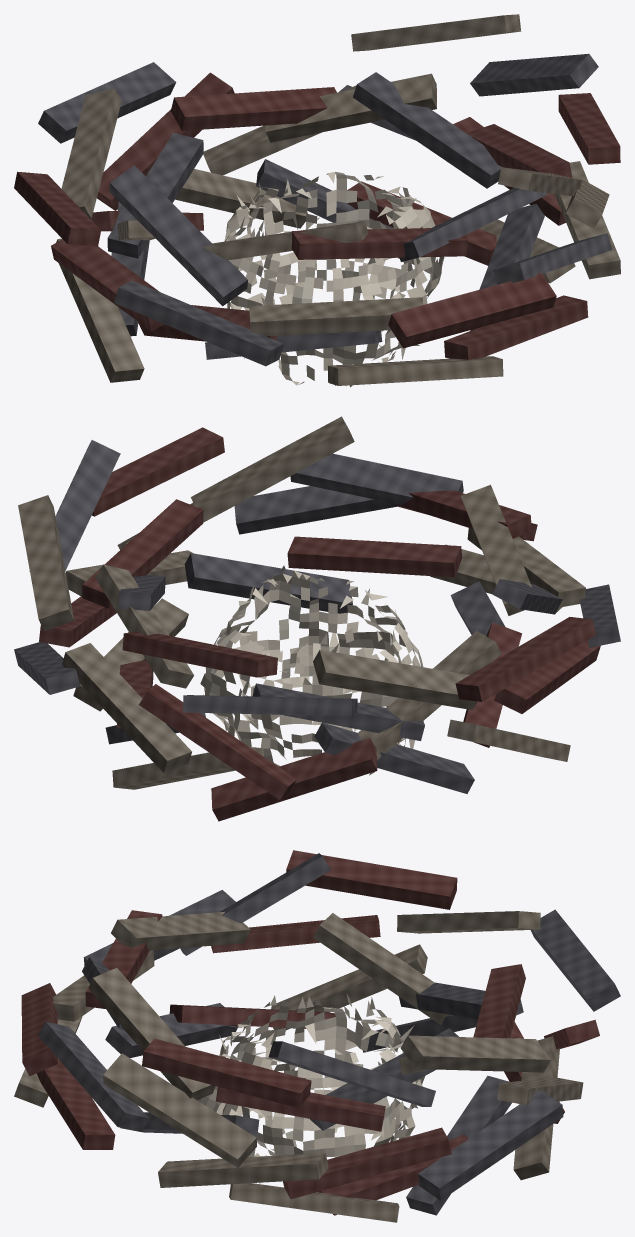
Rendered from D30_ShreddedClothNest.glb.
The picture shows the model from 3 angles, top to bottom: view 1: azimuth 30°, elevation 25°; view 2: azimuth 150°, elevation 25°; view 3: azimuth 270°, elevation 25°; orthographic projection. The views are drawn at different scales.
Visible parts, largest first — view 1: D30_ShreddedClothNest; view 2: D30_ShreddedClothNest; view 3: D30_ShreddedClothNest.
Boxes of the visible parts, x1,y1,x2,y2 form: D30_ShreddedClothNest: (14, 14, 620, 387); D30_ShreddedClothNest: (14, 416, 620, 821); D30_ShreddedClothNest: (14, 850, 620, 1222).
Size of the model in its own units: 0.2916 by 0.1367 by 0.3.
4 materials, 4 textured.
